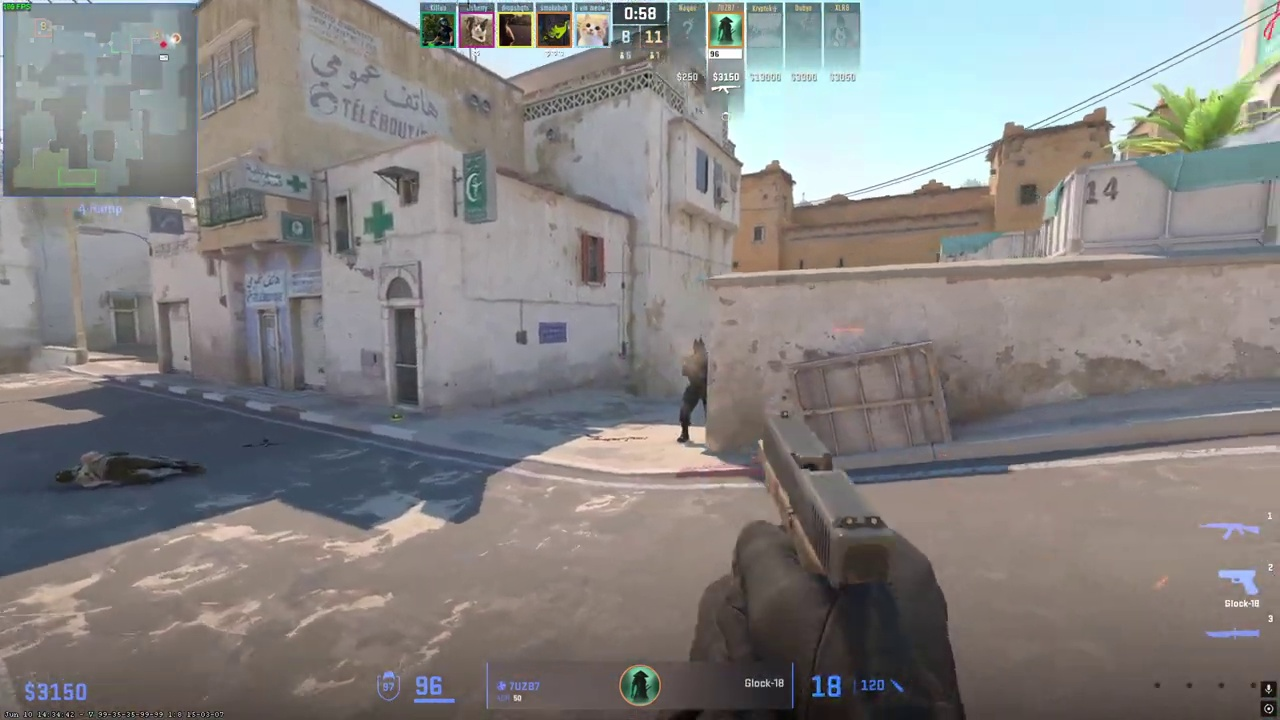CT: (677, 337, 709, 442)
